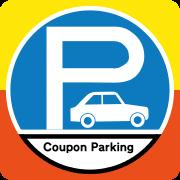Parking Lot Cars: (5, 9, 171, 171)
